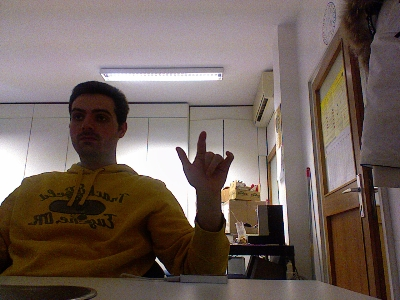我爱你: (173, 128, 235, 191)
